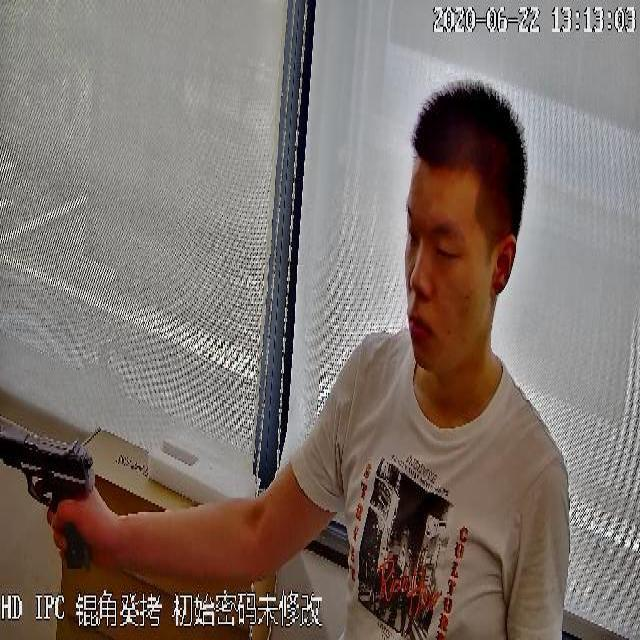pistol: (0, 436, 100, 562)
